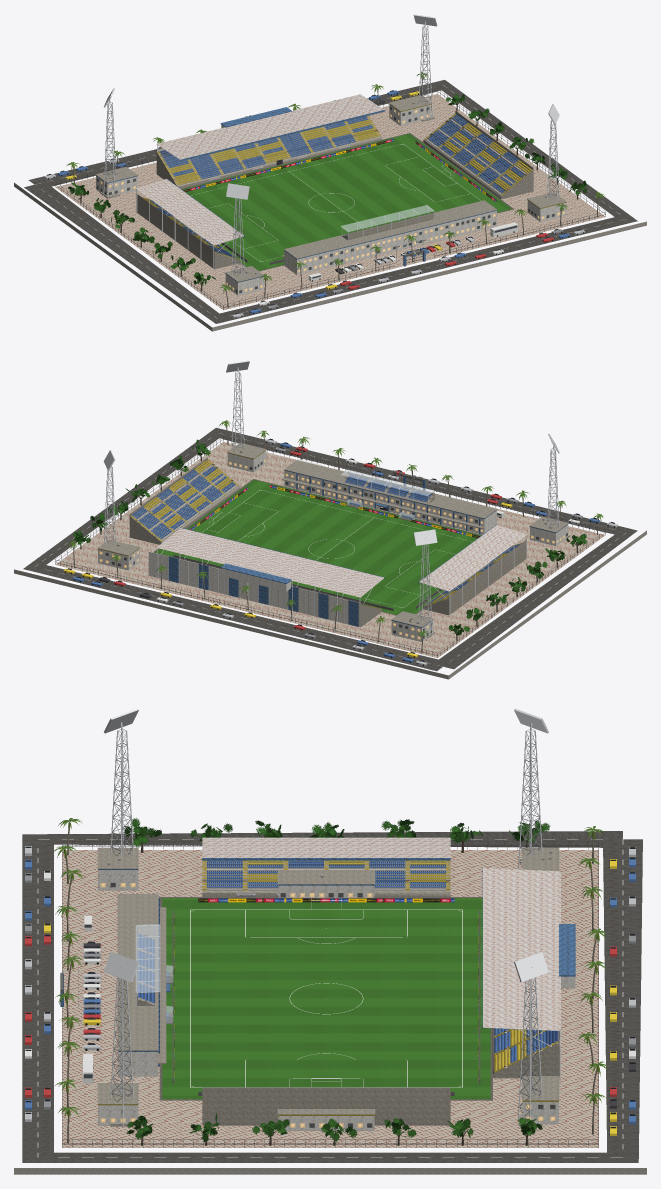
File: estadio_azul.glb
3 views of the same model, one above another, from view 1: azimuth 30°, elevation 25°; view 2: azimuth 150°, elevation 25°; view 3: azimuth 270°, elevation 25° (orthographic). The views are drawn at different scales.
Visible parts, largest first — view 1: Pavimento_Avenida, Relva, Bancada_Norte, Edificio_Sul_Fachada, Bancada_Norte_Cobertura, Bancada_Este, Edificios_Apoio, Corte_Solo, Bancada_Oeste_Cobertura, Arvores, Bancada_Oeste, Vedacao_Exterior (+10 smaller); view 2: Pavimento_Avenida, Relva, Bancada_Norte_Cobertura, Edificio_Sul_Fachada, Bancada_Este, Fachada_Norte, Edificios_Apoio, Corte_Solo, Bancada_Oeste_Cobertura, Arvores, Vedacao_Exterior, Bancada_Oeste (+10 smaller); view 3: Pavimento_Avenida, Relva, Bancada_Norte_Cobertura, Edificios_Apoio, Bancada_Este, Edificio_Sul_Fachada, Bancada_Oeste, Bancada_Oeste_Cobertura, Arvores, Corte_Solo, Palmeiras, Vedacao_Exterior (+11 smaller).
Part boxes in pixels (x1,y1,x2,y2): Pavimento_Avenida: (24,80,637,323); Relva: (182,133,511,270); Bancada_Norte: (156,115,381,188); Edificio_Sul_Fachada: (282,200,497,274); Bancada_Norte_Cobertura: (156,94,384,161); Bancada_Este: (423,111,533,199); Edificios_Apoio: (95,95,566,295); Corte_Solo: (14,182,646,331); Bancada_Oeste_Cobertura: (136,179,244,269); Arvores: (68,94,587,291); Bancada_Oeste: (137,194,240,269); Vedacao_Exterior: (55,88,605,309); Pavimento_Avenida: (23,427,637,671); Relva: (154,480,481,614); Bancada_Norte_Cobertura: (156,527,384,627); Edificio_Sul_Fachada: (282,460,497,534); Bancada_Este: (129,457,240,544); Fachada_Norte: (148,551,358,626); Edificios_Apoio: (98,443,568,641); Corte_Solo: (14,530,646,679); Bancada_Oeste_Cobertura: (418,524,527,615); Arvores: (73,439,587,640); Vedacao_Exterior: (55,436,605,657); Bancada_Oeste: (423,540,526,615); Pavimento_Avenida: (22,831,642,1162); Relva: (162,898,490,1099); Bancada_Norte_Cobertura: (482,868,560,1077); Edificios_Apoio: (97,847,559,1130); Bancada_Este: (202,1087,450,1125); Edificio_Sul_Fachada: (117,894,170,1076); Bancada_Oeste: (202,860,450,896); Bancada_Oeste_Cobertura: (202,837,450,860); Arvores: (124,818,549,1145); Corte_Solo: (14,1168,646,1174); Palmeiras: (52,818,608,1143); Vedacao_Exterior: (62,841,598,1147).
Bounding box in the file's own units: 200 × 46.86 × 158.
50 materials, 36 textured.
